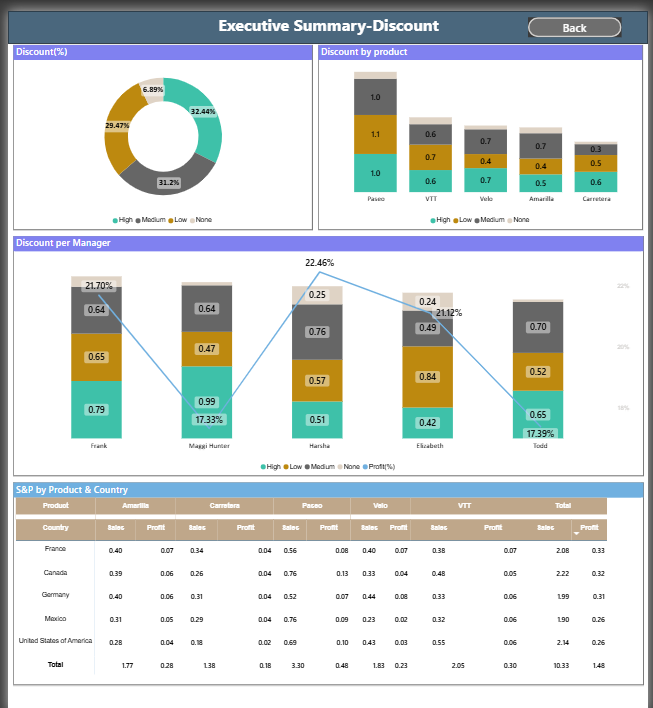

What the dashboard file says about the page in this screenshot:
{"tool":"powerbi","page":{"name":"Discount","canvas":[1280,1400],"ordinal":1},"visuals":[{"type":"pivotTable","title":"S&P by Product & Country","fields":{"Columns":["financials.Product"],"Rows":["financials.Country"],"Values":["Measure table.Total_Sales","financials.TTotal_Profit"]},"box":[9.3,941.8,1261.4,405.9],"z":0},{"type":"columnChart","title":"Discount by product","fields":{"Category":["financials.Product"],"Series":["financials.Discount Band"],"Y":["Measure table.Total_Sales"]},"box":[620.8,67.6,649.9,370.1],"z":1000},{"type":"donutChart","title":"Discount(%)","fields":{"Category":["financials.Discount Band"],"Y":["Measure table.Total_Sales"]},"box":[9.3,67.6,599.5,370.1],"z":2000},{"type":"lineStackedColumnComboChart","title":"Discount per Manager","fields":{"Series":["financials.Discount Band"],"Y2":["Sum(financials.Profit(%))"],"Category":["financials.Sales Manager"],"Y":["Measure table.Total_Sales"]},"box":[9.3,451,1261.4,480.2],"z":3000},{"type":"textbox","box":[0,0,1280.4,65.5],"z":4000},{"type":"actionButton","box":[1039.9,13.3,187,39.8],"z":5000}]}

Visuals, with their boxes in screenshot pixels (x1, y1, x2, y2), scaled from the page's 1280x1400 canvas onto the 653x708 screenshot:
"S&P by Product & Country" pivotTable: 5,476,648,682
"Discount by product" columnChart: 317,34,648,221
"Discount(%)" donutChart: 5,34,311,221
"Discount per Manager" lineStackedColumnComboChart: 5,228,648,471
textbox: 0,0,652,33
actionButton: 531,7,626,27
